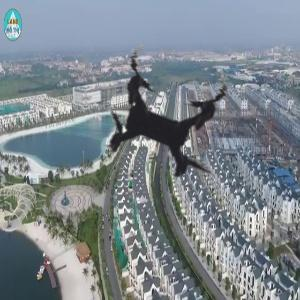drone: (47, 3, 279, 235)
